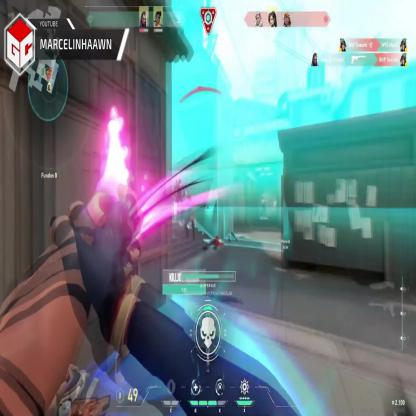enemy: (183, 194, 196, 243), (174, 177, 184, 216)
enemy_head: (187, 195, 192, 206), (178, 178, 182, 185)
